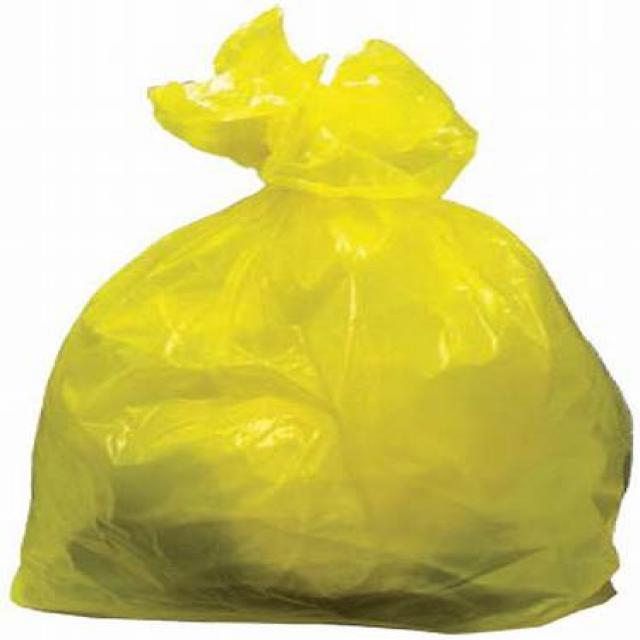waste: (22, 15, 620, 627)
